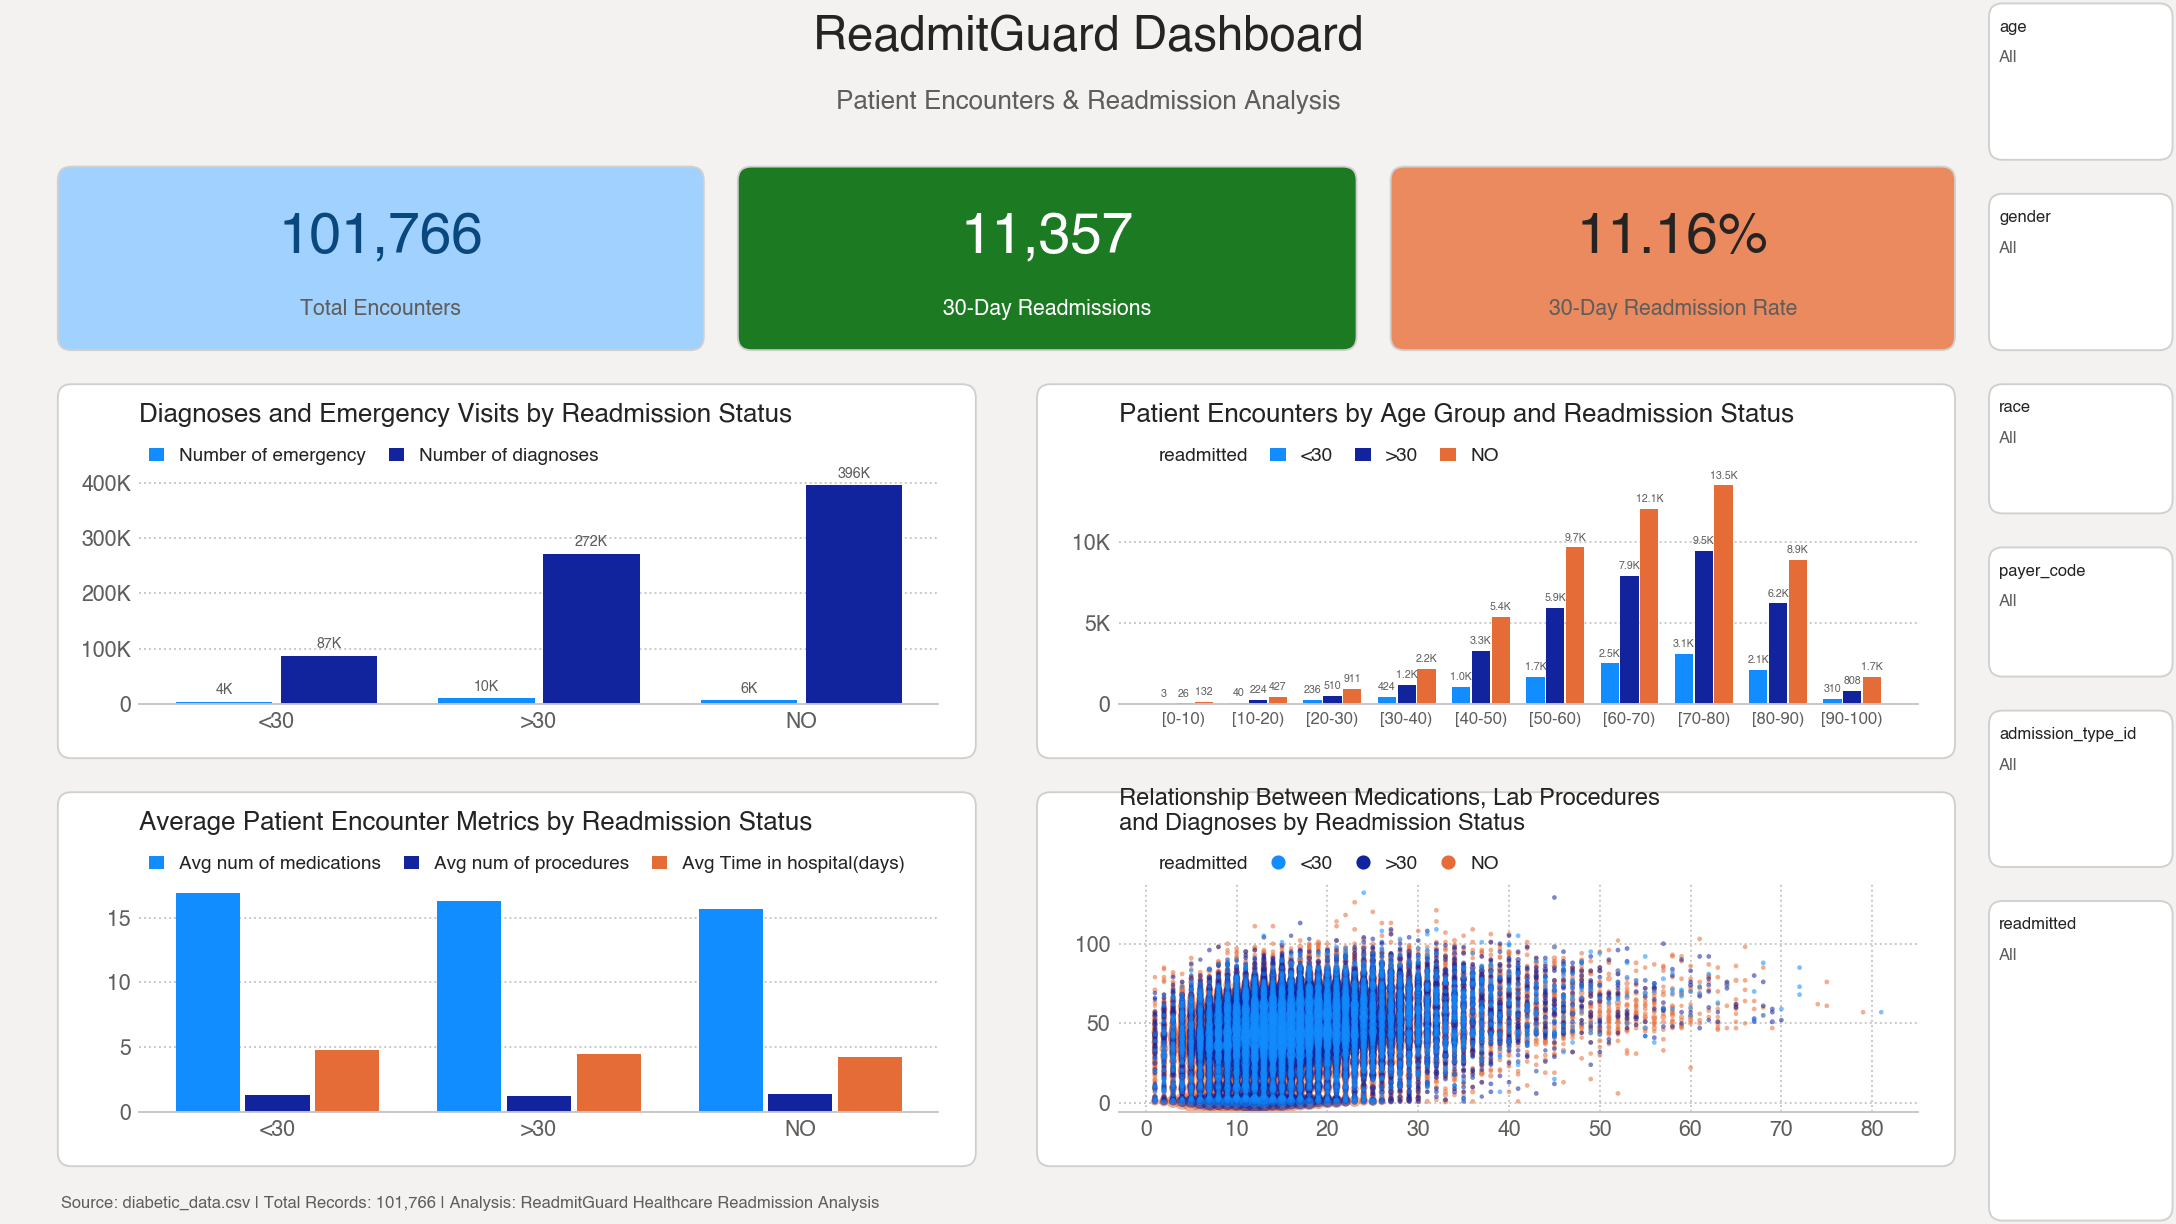

What the dashboard file says about the page in this screenshot:
{"tool":"powerbi","page":{"name":"Page 1","canvas":[1280,720],"ordinal":0},"visuals":[{"type":"clusteredColumnChart","title":"Diagnoses and Emergency Visits by Readmission Status.","fields":{"Category":["diabetic_data.readmitted"],"Y":["Sum(diabetic_data.number_emergency)","Sum(diabetic_data.number_diagnoses)"]},"box":[32,224,544,224],"z":0},{"type":"clusteredColumnChart","title":"Patient Encounters by Age Group and Readmission Status","fields":{"Category":["diabetic_data.age"],"Y":["CountNonNull(diabetic_data.encounter_id)"],"Series":["diabetic_data.readmitted"]},"box":[608,224,544,224],"z":1},{"type":"clusteredColumnChart","title":"Average Patient Encounter Metrics by Readmission Status","fields":{"Category":["diabetic_data.readmitted"],"Y":["Avg(diabetic_data.num_medications)","Avg(diabetic_data.num_procedures)","Avg(diabetic_data.time_in_hospital)"]},"box":[32,464,544,224],"z":2},{"type":"scatterChart","title":"Relationship Between Medications, Lab Procedures and Diagnoses by Readmission Status.","fields":{"X":["diabetic_data.num_medications"],"Size":["Sum(diabetic_data.number_diagnoses)"],"Y":["diabetic_data.num_lab_procedures"],"Series":["diabetic_data.readmitted"]},"box":[608,464,544,224],"z":3},{"type":"cardVisual","fields":{"Data":["_Measures.Total Encounters Display"]},"box":[32,96,384,112],"z":4},{"type":"cardVisual","fields":{"Data":["_Measures.30-Day Readmission Rate"]},"box":[816,96,336,112],"z":5},{"type":"cardVisual","fields":{"Data":["_Measures.Readmitted Within 30 Days"]},"box":[432,96,368,112],"z":6},{"type":"textbox","box":[432,0,432,48],"z":7},{"type":"textbox","box":[448,48,416,32],"z":8},{"type":"slicer","fields":{"Values":["diabetic_data.age"]},"box":[1168,0,112,96],"z":9},{"type":"slicer","fields":{"Values":["diabetic_data.gender"]},"box":[1168,112,112,96],"z":10},{"type":"slicer","fields":{"Values":["diabetic_data.race"]},"box":[1168,224,112,80],"z":11},{"type":"slicer","fields":{"Values":["diabetic_data.payer_code"]},"box":[1168,320,112,80],"z":12},{"type":"slicer","fields":{"Values":["diabetic_data.admission_type_id"]},"box":[1168,416,112,96],"z":13},{"type":"slicer","fields":{"Values":["diabetic_data.readmitted"]},"box":[1168,528,112,192],"z":14},{"type":"textbox","box":[32,688,1120,32],"z":15}]}

Visuals, with their boxes in screenshot pixels (x1, y1, x2, y2), scaled from the page's 1280x720 canvas onto the 2176x1224 screenshot:
"Diagnoses and Emergency Visits by Readmission Status." clusteredColumnChart: [54,381,979,762]
"Patient Encounters by Age Group and Readmission Status" clusteredColumnChart: [1034,381,1958,762]
"Average Patient Encounter Metrics by Readmission Status" clusteredColumnChart: [54,789,979,1170]
"Relationship Between Medications, Lab Procedures and Diagnoses by Readmission Status." scatterChart: [1034,789,1958,1170]
cardVisual - _Measures.Total Encounters Display: [54,163,707,354]
cardVisual - _Measures.30-Day Readmission Rate: [1387,163,1958,354]
cardVisual - _Measures.Readmitted Within 30 Days: [734,163,1360,354]
textbox: [734,0,1469,82]
textbox: [762,82,1469,136]
slicer - diabetic_data.age: [1986,0,2175,163]
slicer - diabetic_data.gender: [1986,190,2175,354]
slicer - diabetic_data.race: [1986,381,2175,517]
slicer - diabetic_data.payer_code: [1986,544,2175,680]
slicer - diabetic_data.admission_type_id: [1986,707,2175,870]
slicer - diabetic_data.readmitted: [1986,898,2175,1223]
textbox: [54,1170,1958,1223]
